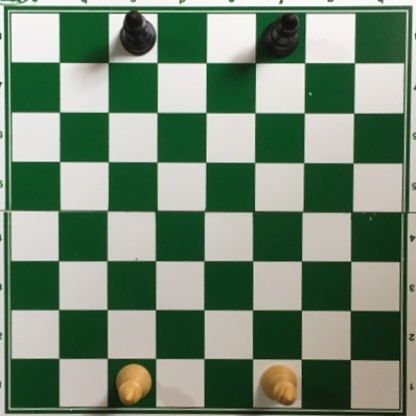black-bishop: (260, 12, 301, 59), (119, 9, 157, 58)
white-bishop: (114, 362, 153, 408), (258, 363, 296, 408)
